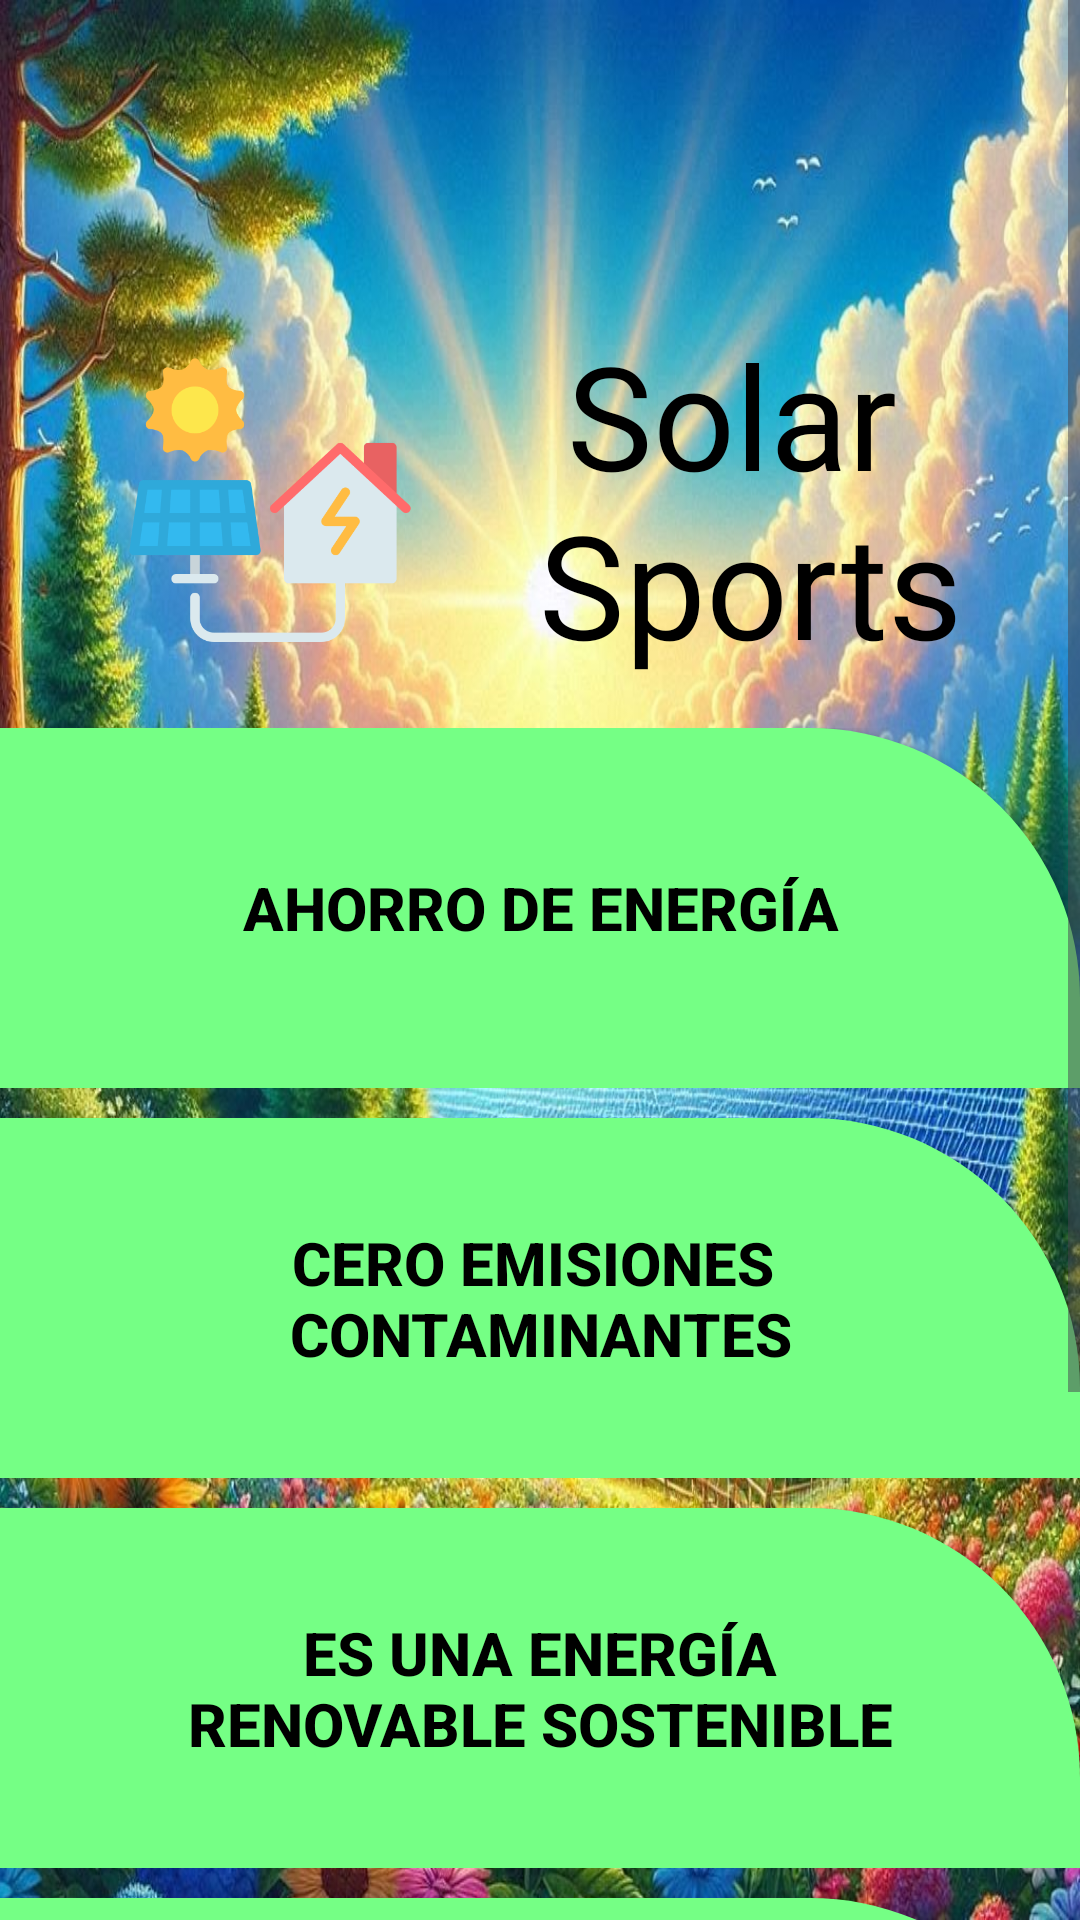

Point at icon controls on the screen. Image size 1080 × 1920, points as (x,y).
Panel: (270,499)
